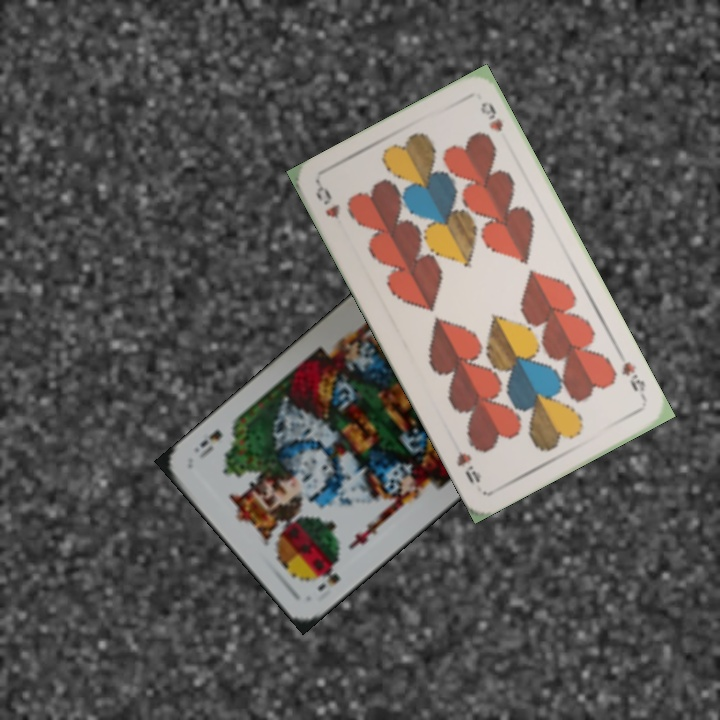H9: (311, 181, 343, 222), (617, 357, 649, 394)
SK: (313, 564, 343, 594)
